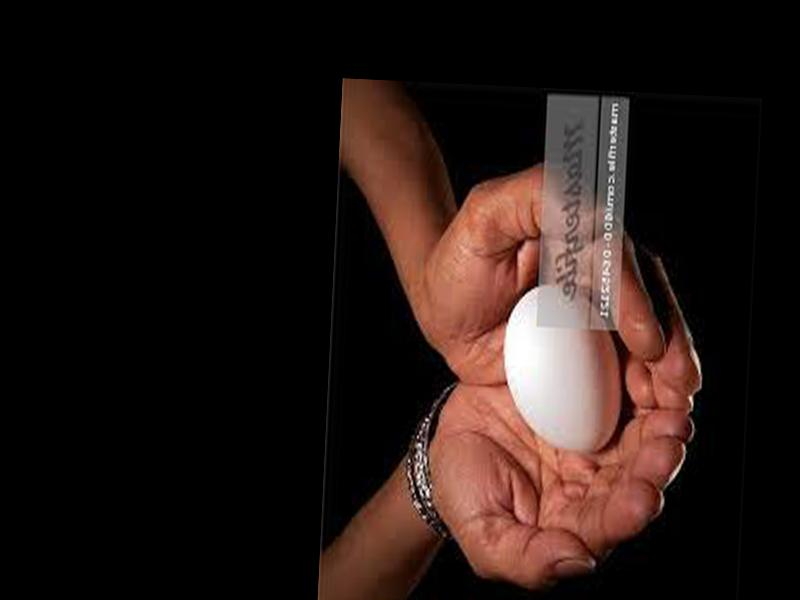Eggs: (498, 283, 628, 455)
